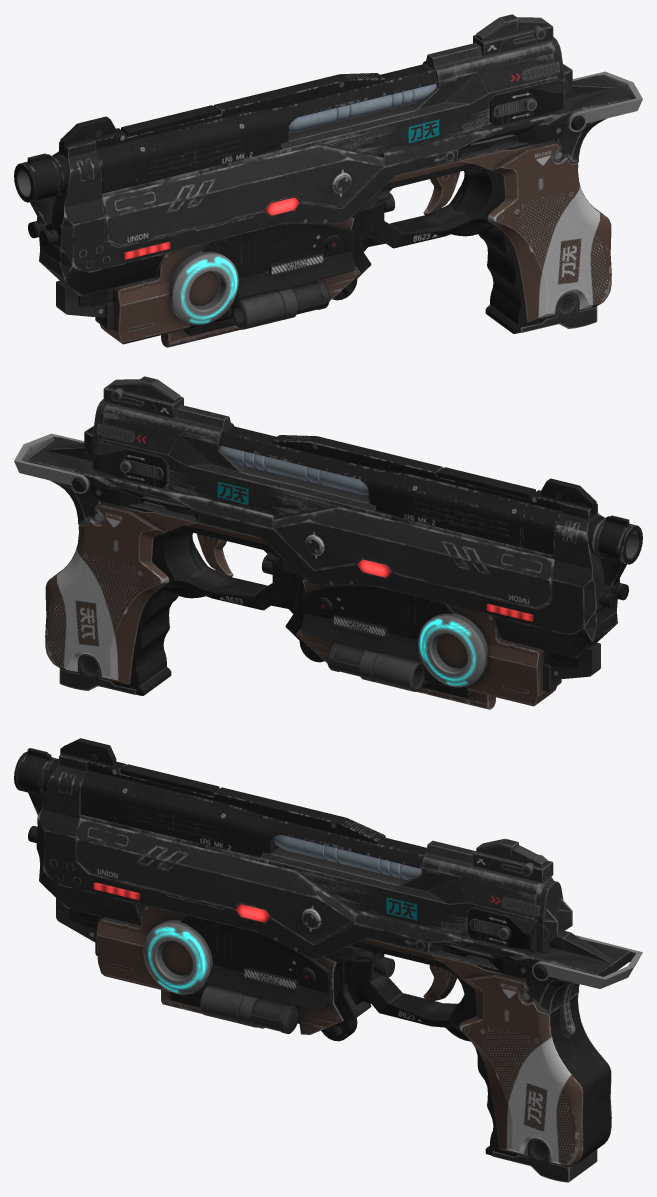
Rendered from gun.glb.
3 views of the same model, one above another, from view 1: azimuth 30°, elevation 25°; view 2: azimuth 150°, elevation 25°; view 3: azimuth 330°, elevation 25° (orthographic).
Visible parts, largest first — view 1: ShouQiang5; view 2: ShouQiang5; view 3: ShouQiang5.
Part boxes in pixels (left/top/right/bottom): ShouQiang5: left=14, top=14, right=642, bottom=347; ShouQiang5: left=14, top=376, right=642, bottom=709; ShouQiang5: left=14, top=738, right=642, bottom=1182.
Size of the model in its own units: 0.143 by 0.0701 by 0.0191.
1 material, 1 textured.
